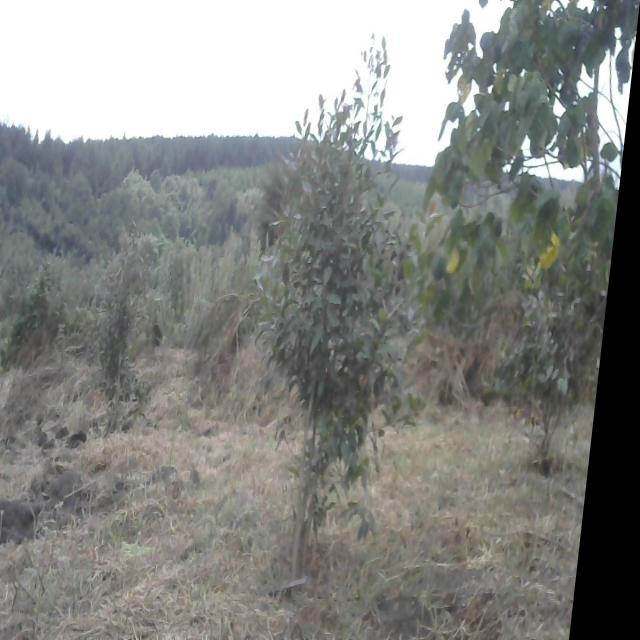Lemon Myrtle: (247, 34, 462, 560)
other: (425, 0, 640, 372), (80, 224, 175, 424)
